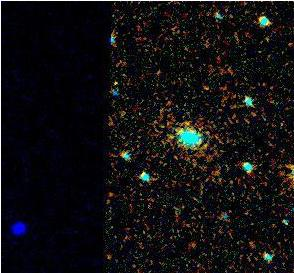star: (107, 72, 137, 102)
